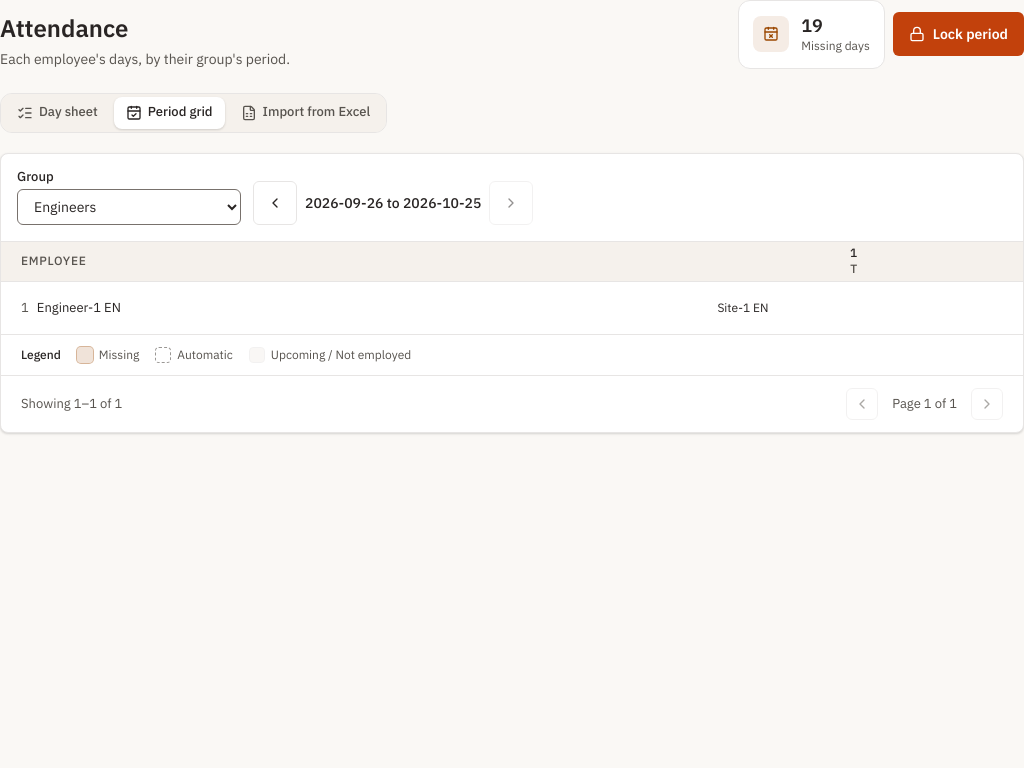
Test: in English the grid, its day editor and the missing list show the English site and employee names
Click the button with aria-label "Engineer-1 EN 2026-10-01: Site-1 EN".
click(743, 308)  # box [687,286,799,330]
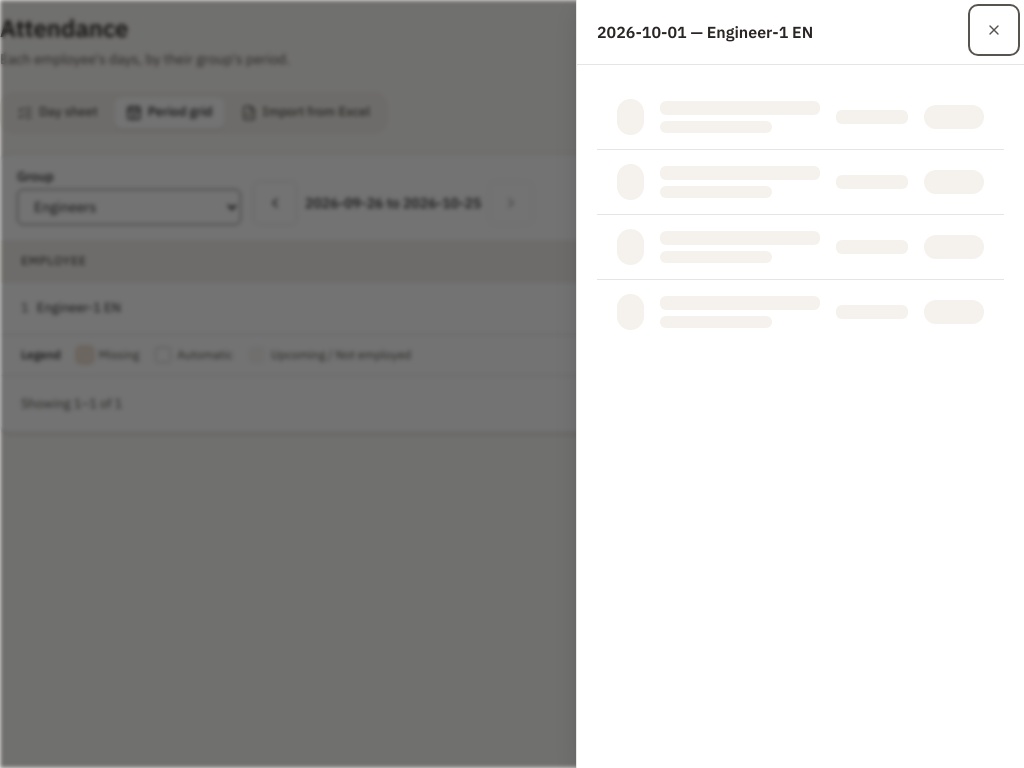
Expected: the dialog "2026-10-01 — Engineer-1 EN" is shown, [576,0,1023,767]
Press Escape
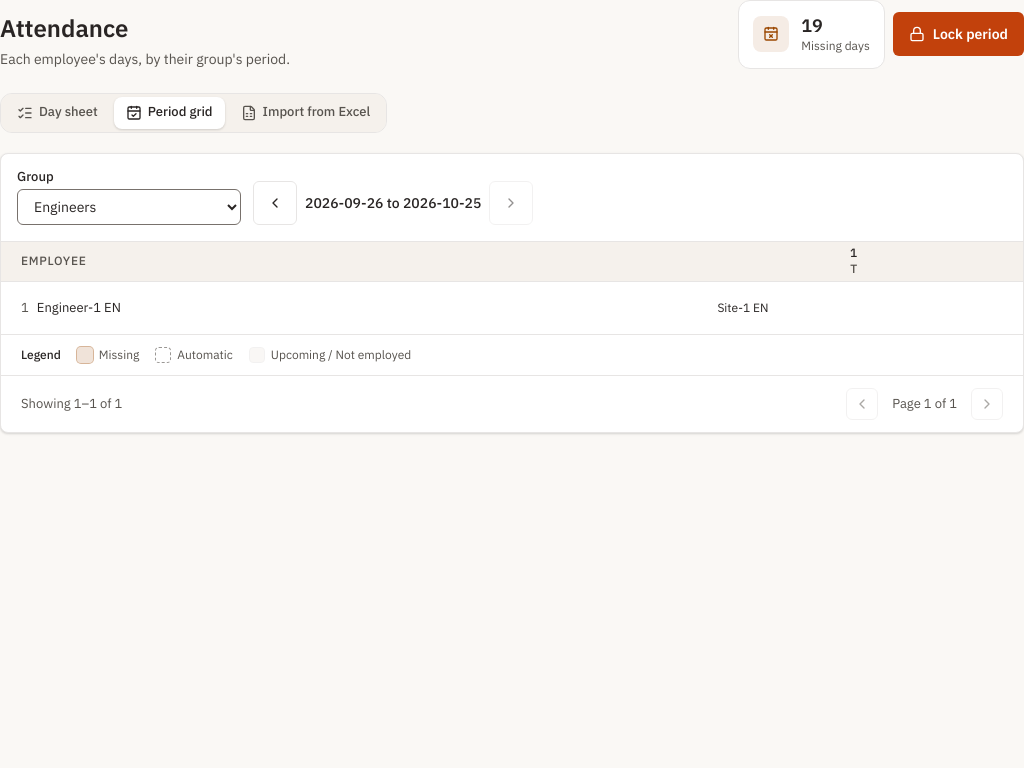
Click the button "Lock period".
click(958, 34)  # box [893,12,1023,56]
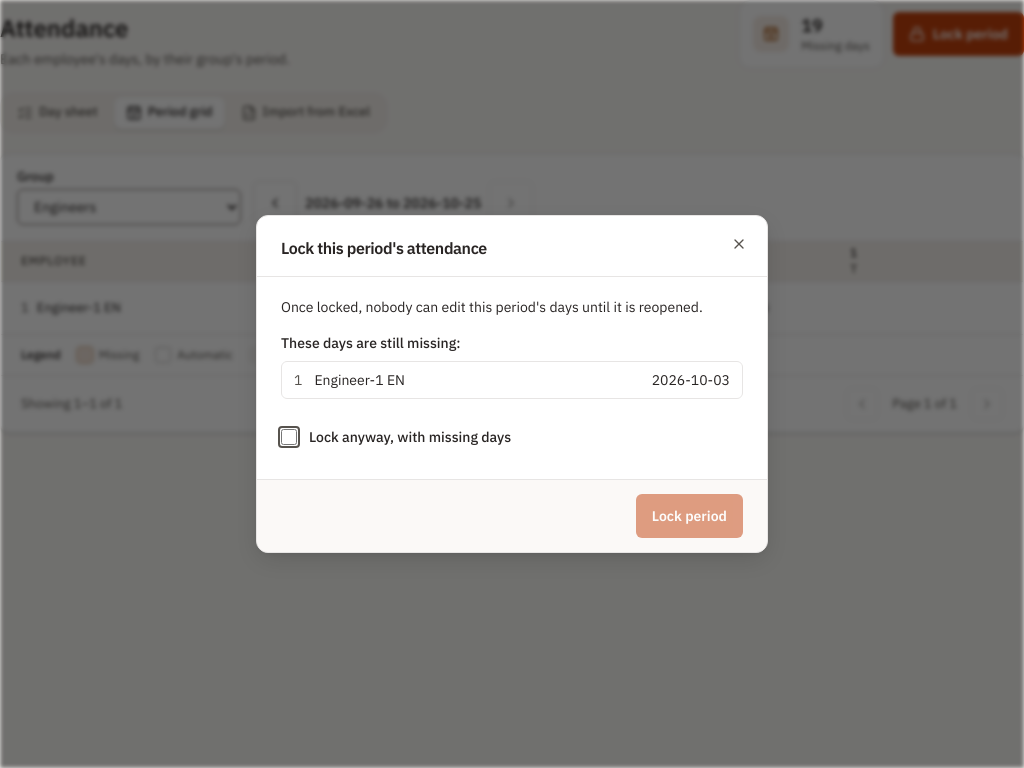
Expected: the list item shows "Engineer-1 EN", [314,371,405,389]
